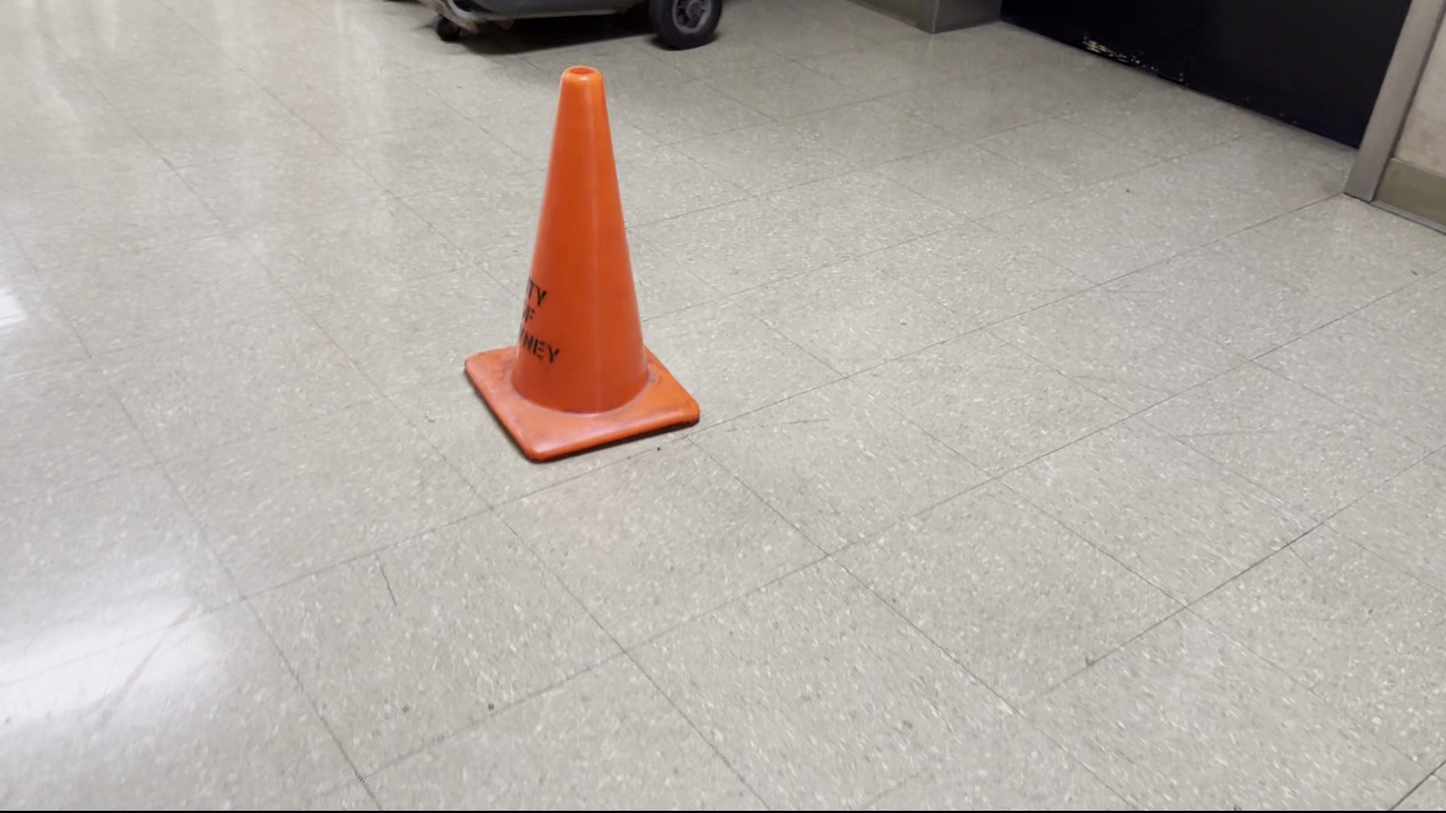traffic_cone: (463, 64, 701, 464)
